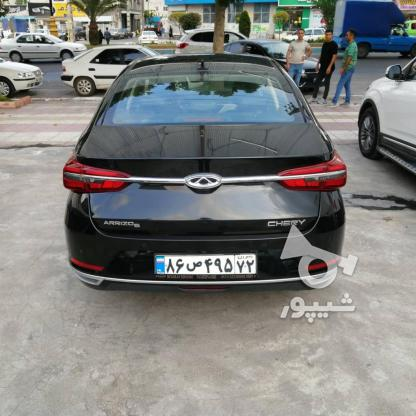car: (152, 252, 256, 274)
